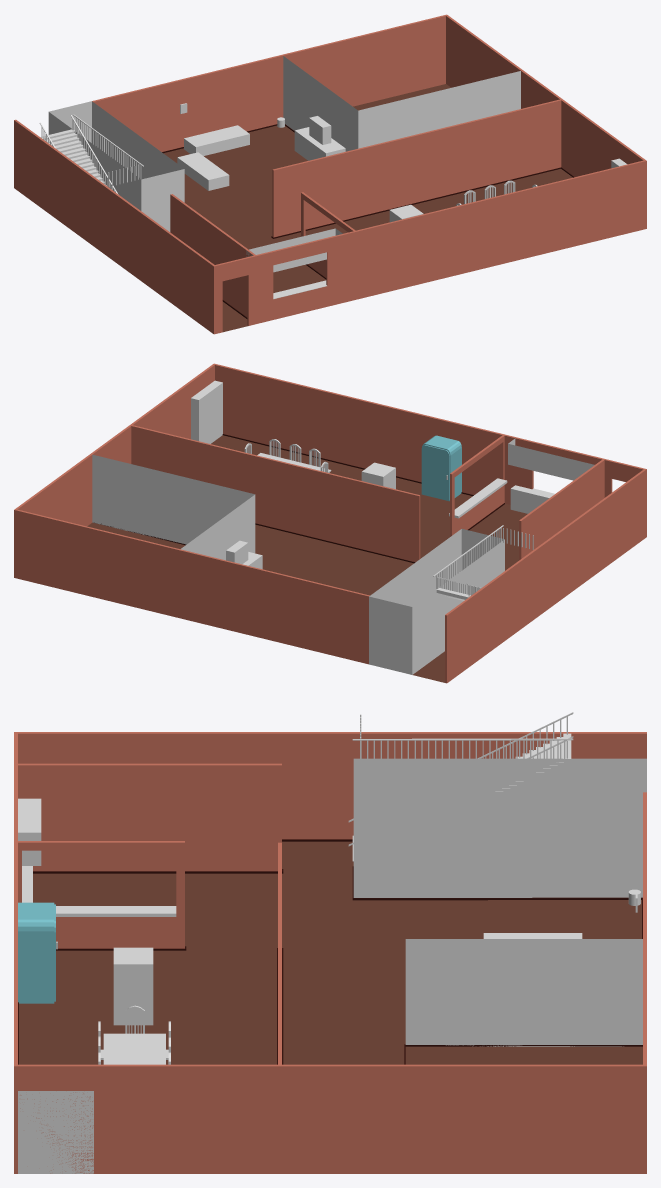
The model's file is Primer Nivel_V01.fbx.
3 renders of one model, top to bottom at view 1: azimuth 30°, elevation 25°; view 2: azimuth 150°, elevation 25°; view 3: azimuth 270°, elevation 25°, orthographic. The views are drawn at different scales.
Parts seen in each view (by area): view 1: Cube.001, Cube.006, Cube.008, Cube.004, Plane.001, Cube.014, Cube.007, Cube.011, Cube.003, Cube.005, Cube.035, Cube.031 (+7 smaller); view 2: Cube.008, Cube.006, Cube.001, Cube.004, Plane.001, Cube.014, Cube.007, Cube.011, Cube.003, Cube.020, Cube.022, Cube.018 (+7 smaller); view 3: Plane.001, Cube.011, Cube.007, Cube.003, Cube.006, Cube.014, Cube.004, Cube.022, Cube.018, Cube.020, Cube.016, Cube.019 (+9 smaller).
Boxes of the visible parts, <box> form: Cube.001: <box>254,160,646,324</box>; Cube.006: <box>272,99,645,237</box>; Cube.008: <box>92,15,445,151</box>; Cube.004: <box>14,119,215,334</box>; Plane.001: <box>163,84,572,332</box>; Cube.014: <box>283,56,520,151</box>; Cube.007: <box>48,101,184,231</box>; Cube.011: <box>445,14,562,108</box>; Cube.003: <box>170,194,255,317</box>; Cube.005: <box>215,255,254,333</box>; Cube.035: <box>40,120,114,191</box>; Cube.031: <box>184,125,249,155</box>; Cube.008: <box>16,509,369,664</box>; Cube.006: <box>131,364,420,562</box>; Cube.001: <box>213,363,605,504</box>; Cube.004: <box>445,468,646,683</box>; Plane.001: <box>87,435,527,682</box>; Cube.014: <box>92,454,255,560</box>; Cube.007: <box>369,529,504,674</box>; Cube.011: <box>14,424,132,578</box>; Cube.003: <box>519,459,604,560</box>; Cube.020: <box>421,435,461,501</box>; Cube.022: <box>450,434,505,536</box>; Cube.018: <box>191,380,222,443</box>; Plane.001: <box>19,841,642,1064</box>; Cube.011: <box>278,1064,646,1173</box>; Cube.007: <box>353,758,646,897</box>; Cube.003: <box>18,763,281,871</box>; Cube.006: <box>18,842,281,1173</box>; Cube.014: <box>405,939,642,1046</box>; Cube.004: <box>14,732,646,839</box>; Cube.022: <box>14,841,184,948</box>; Cube.018: <box>18,1091,93,1173</box>; Cube.020: <box>18,902,55,1003</box>; Cube.016: <box>445,1013,543,1045</box>; Cube.019: <box>113,947,153,1025</box>.
Size of the model in its own units: 2000 by 362 by 1600.
